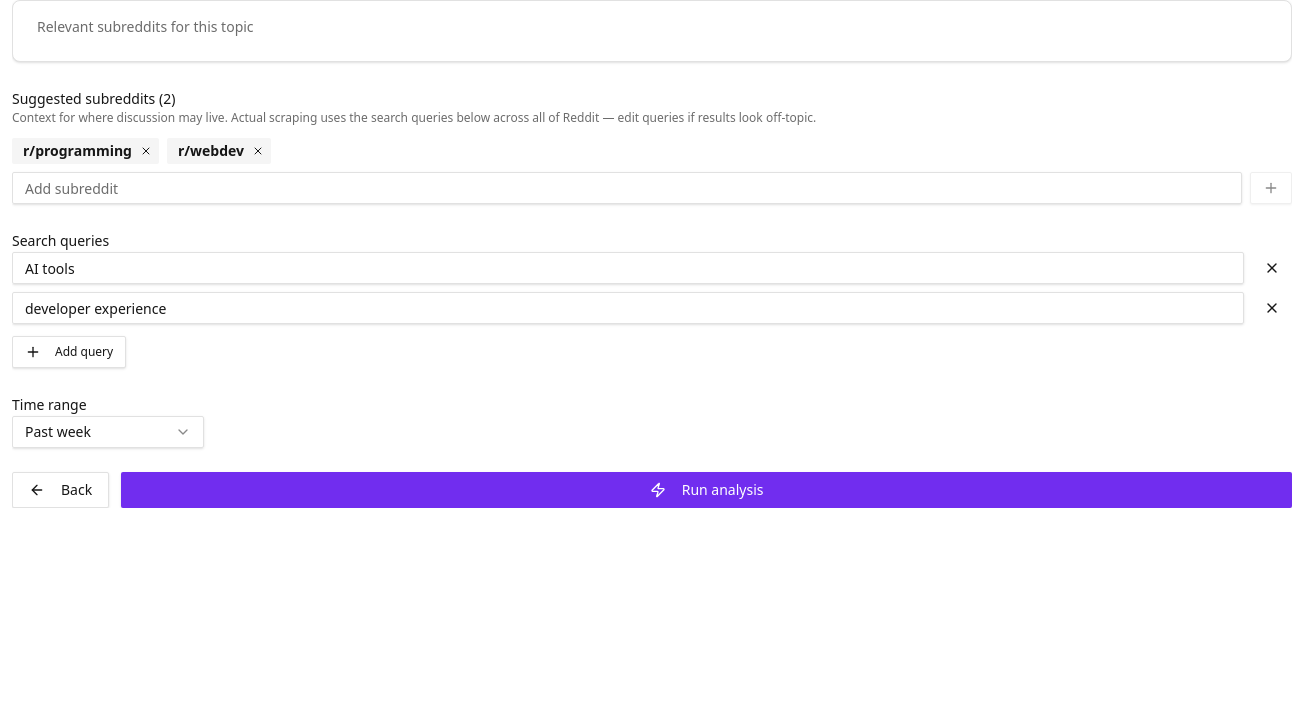
Scenario: PlanReview › strips r/ prefix when adding subreddit
Type "r/node" into the field with placeholder "Add subreddit".
click(627, 188); type("r/node")  # box [12,172,1242,204]
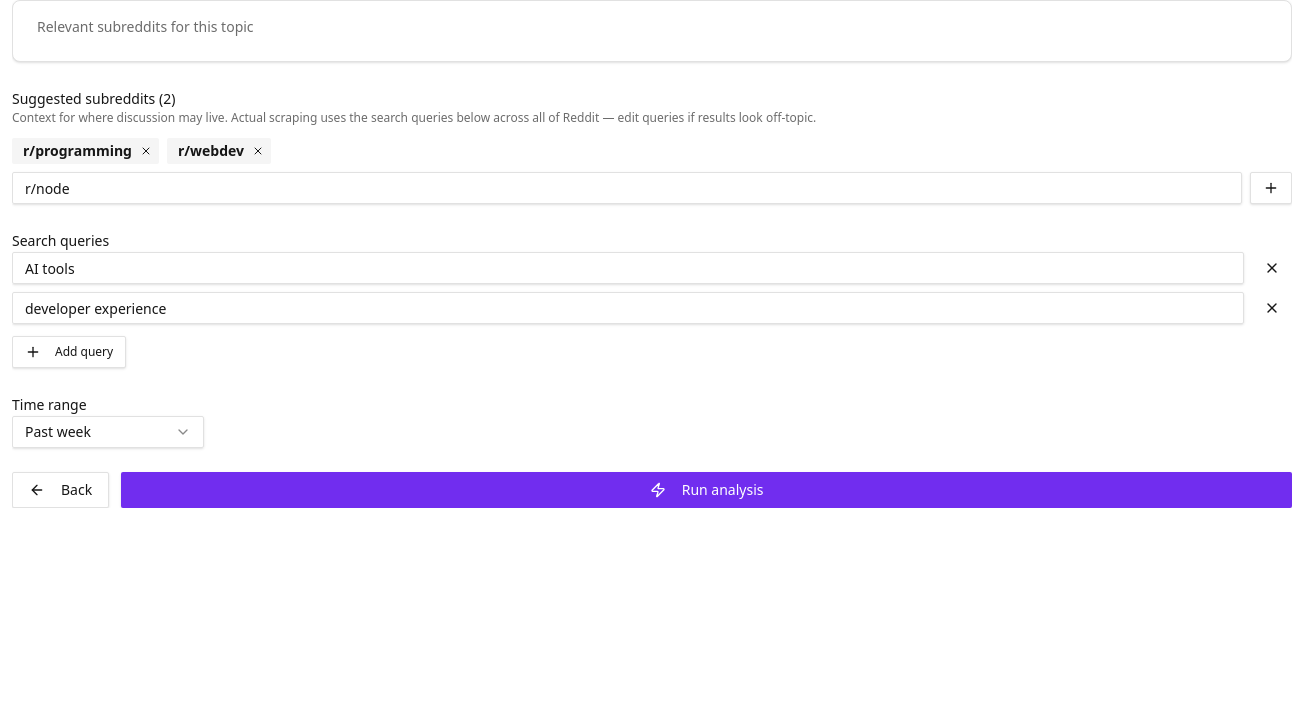
Click the 3rd button.
click(1271, 188)  # box [1250,172,1292,204]
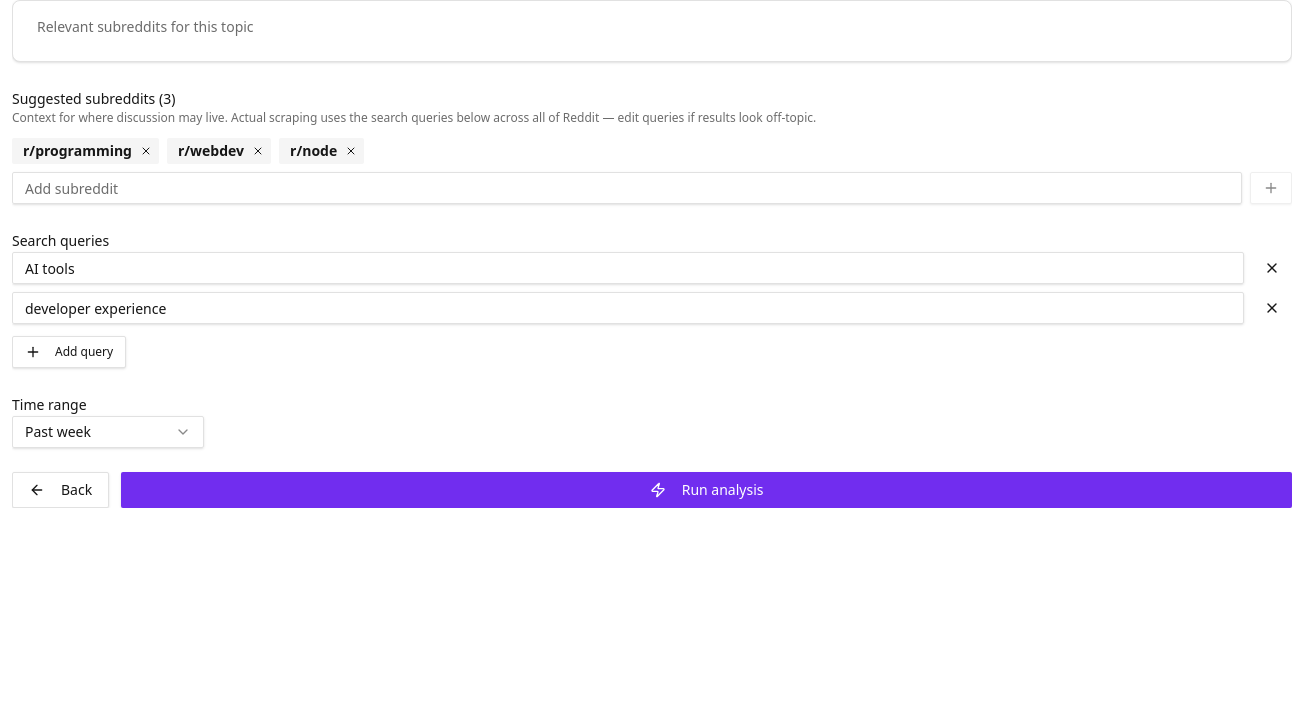
Now the text "r/node" is shown, box [279,138,364,164]
